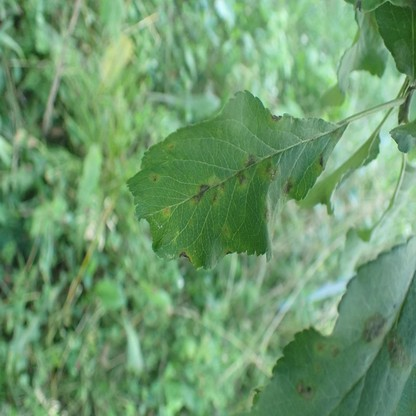scab: (190, 176, 225, 208), (386, 333, 409, 371), (361, 314, 387, 344), (316, 339, 342, 358), (297, 378, 315, 401), (264, 158, 277, 182), (178, 250, 195, 267), (235, 168, 248, 190), (281, 176, 294, 194), (261, 198, 270, 221), (147, 171, 161, 185), (244, 151, 257, 166), (270, 113, 283, 126), (330, 126, 342, 140), (222, 223, 232, 238), (318, 150, 326, 168), (221, 247, 234, 258), (163, 205, 170, 220), (168, 140, 176, 150)
